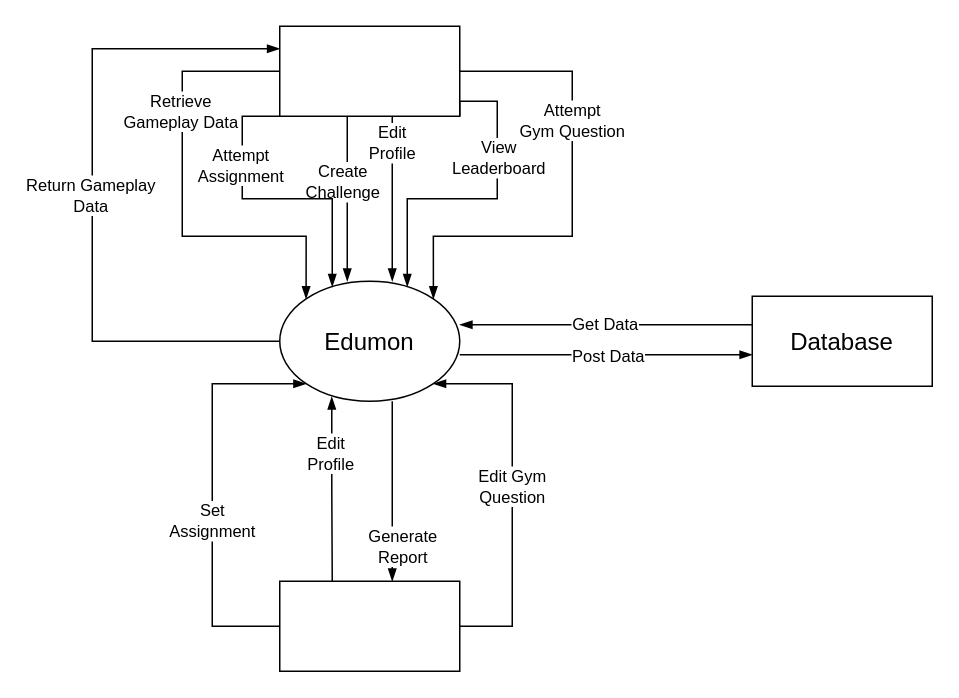
Some shapes in this 959 by 698 pixel diagram are drawn without their labels. Each missing label, with the box of its shape:
Student: (278, 25, 460, 116)
Teacher: (278, 580, 460, 671)
